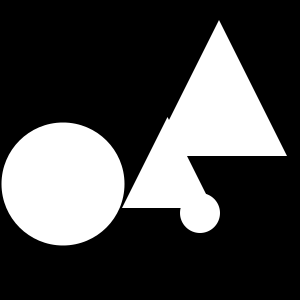rectangle: (2, 122, 124, 245), (180, 193, 220, 233)
triangle: (151, 20, 287, 156), (122, 117, 213, 208)
